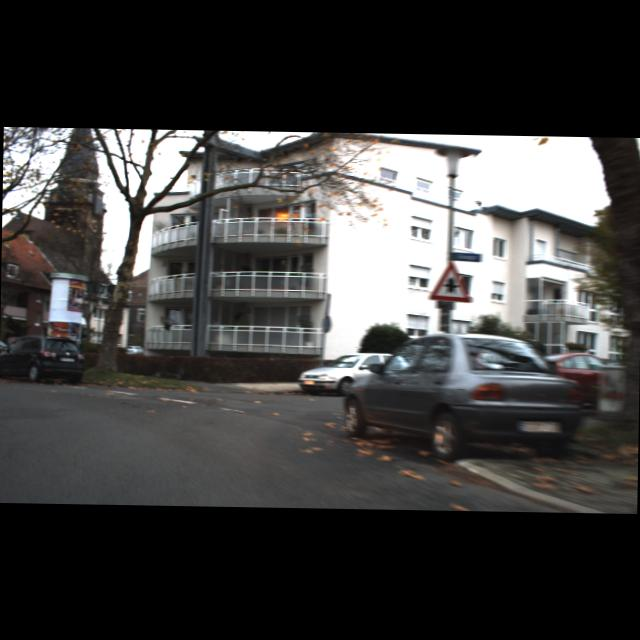danger: (427, 260, 472, 302)
